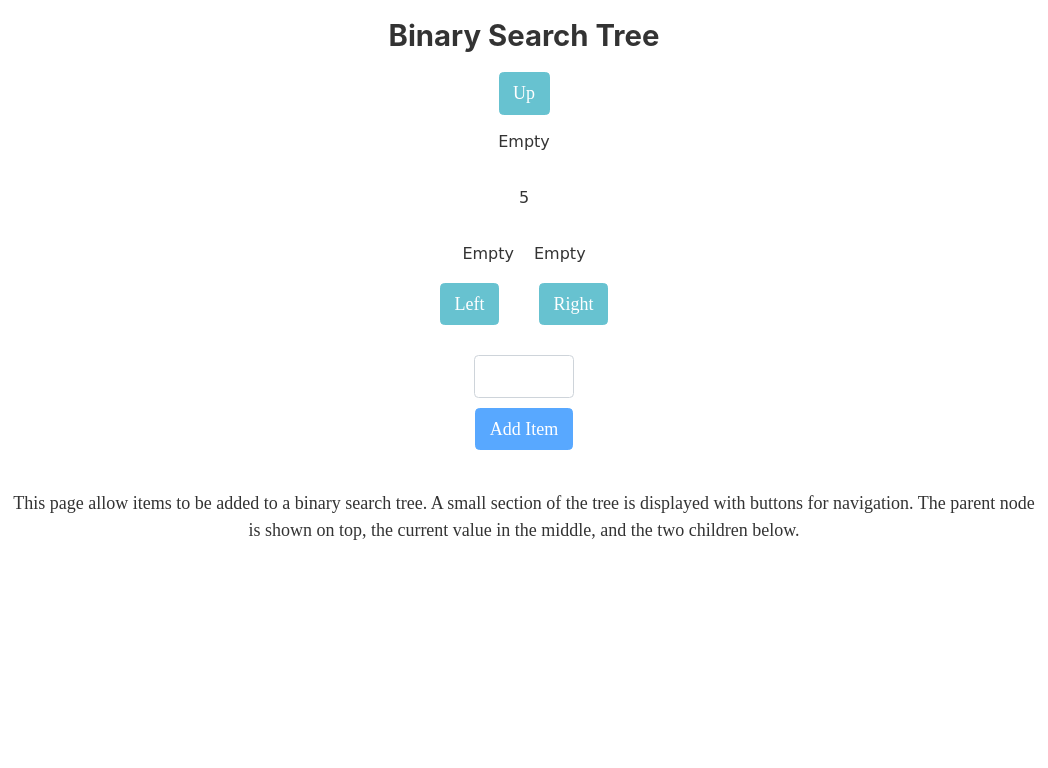
Test case: BinarySearchTree › Add the number 10 and it shows up in the right display
In the number field with class "numberInput": (524, 377) [474,356,574,398], type "10"
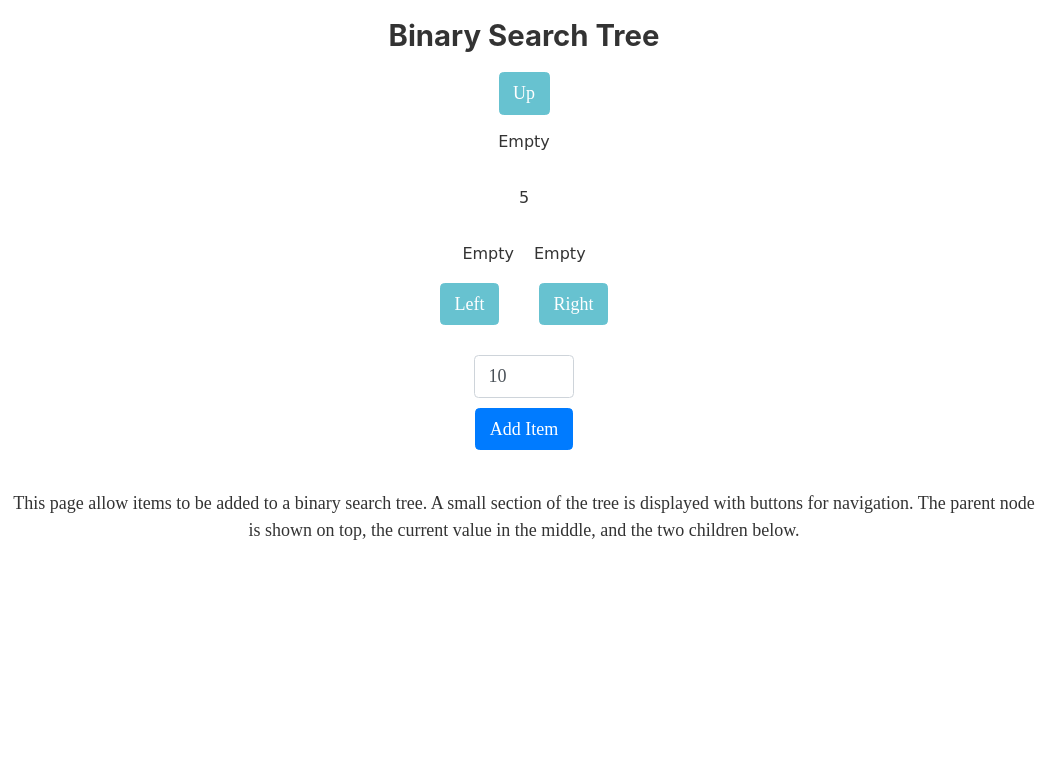
Click the button with id "addItemButton": (524, 429) [475,408,573,450]
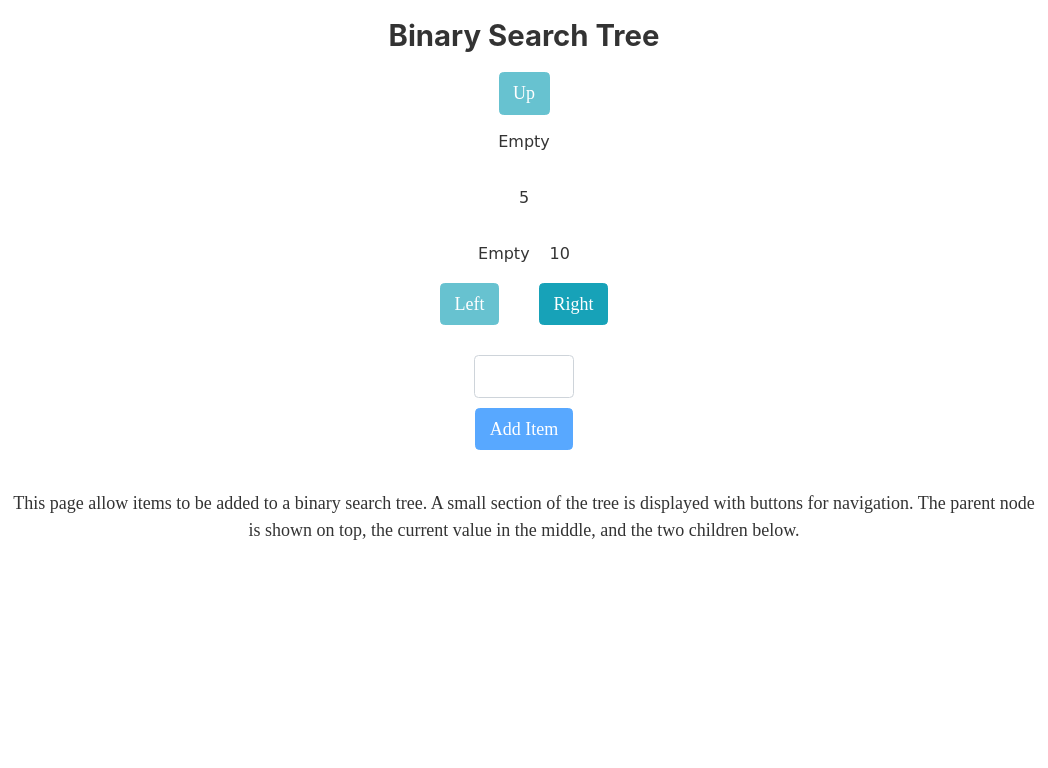
Now the text with id "rightDisplay" reads "10", box [550,244,570,263]
